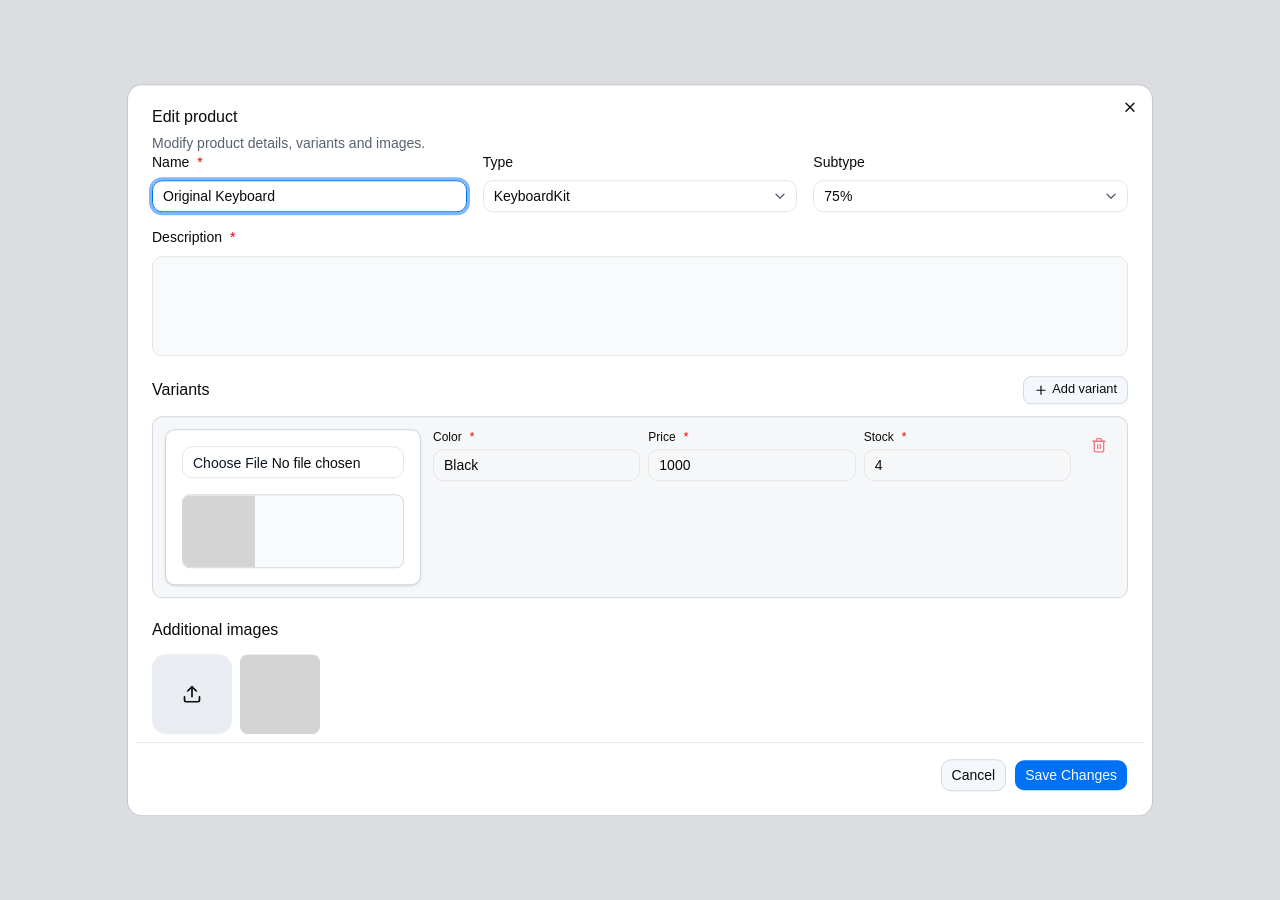
Test case: EditProductFormDialog › adds a variant, permits removing it, and keeps one variant
Check: the button without text in the row of "Stock" is disabled, box top-left (1083, 429), bottom-right (1115, 461)
Step 1. Click the button "Add variant" → (1076, 390), box top-left (1023, 376), bottom-right (1128, 404)
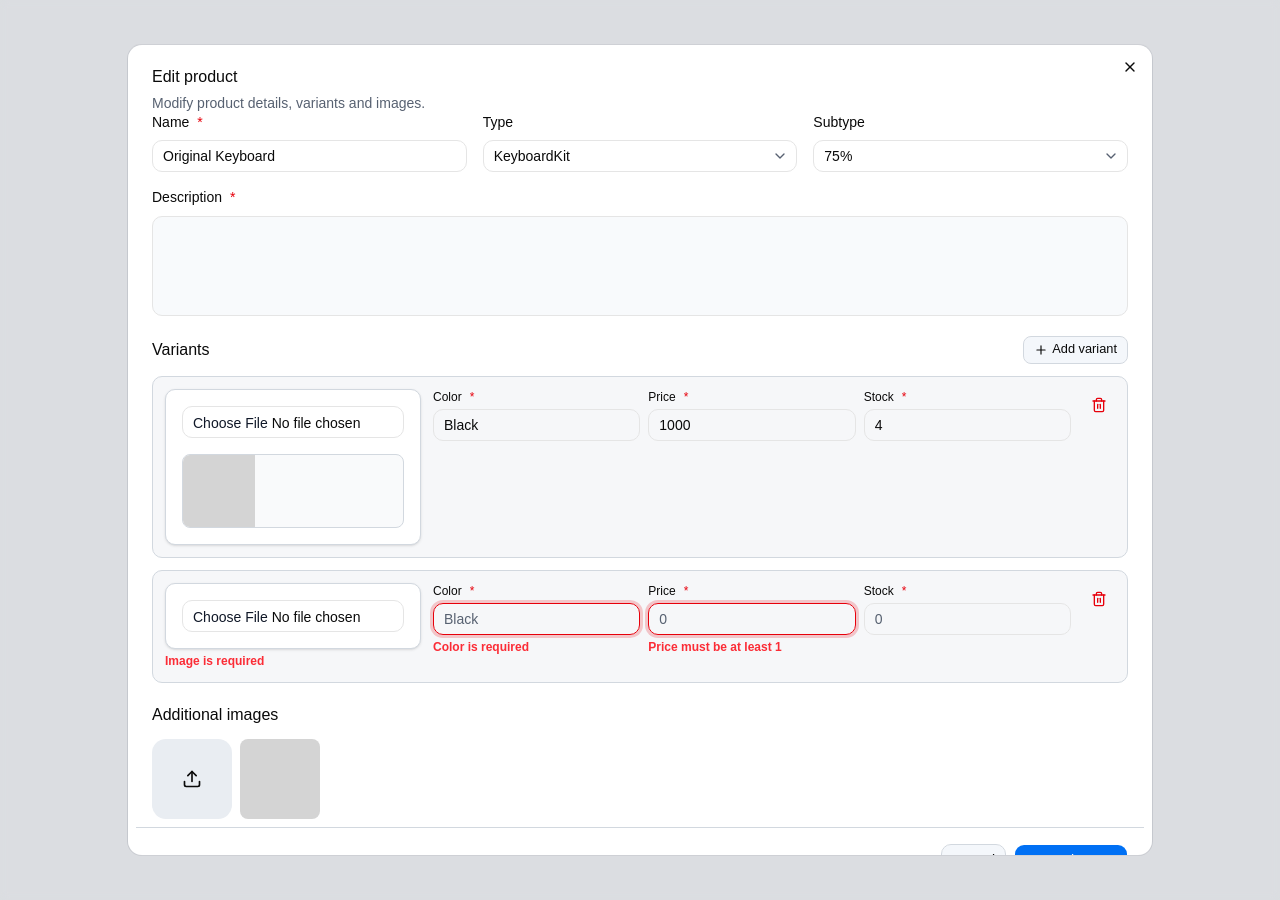
Check: the number of fields with placeholder "Black" is 2, box top-left (433, 408), bottom-right (640, 440); top-left (433, 602), bottom-right (640, 634)
Check: the 4th button is enabled
Step 2. Click the 4th button → (1099, 598), box top-left (1083, 582), bottom-right (1115, 614)
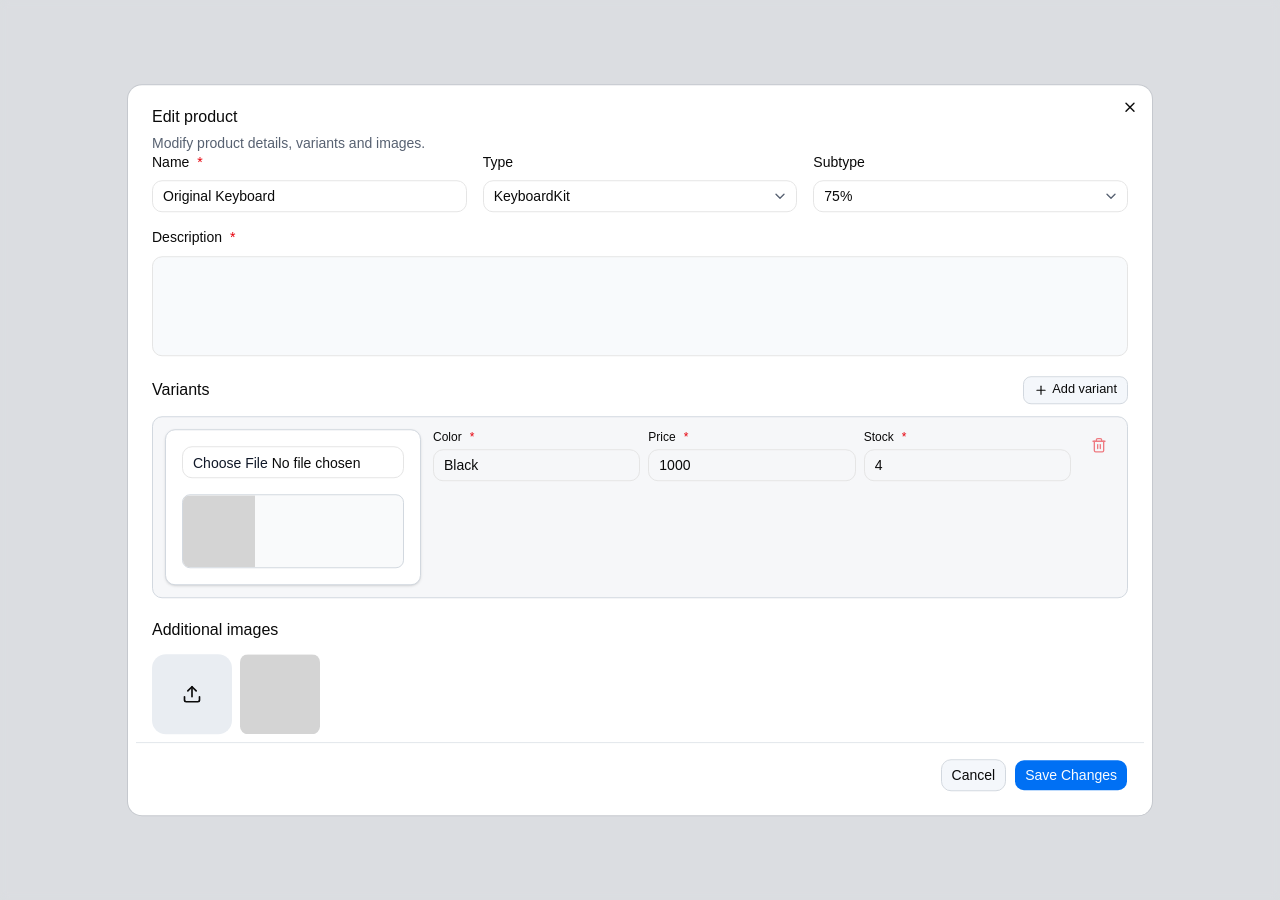
Check: the number of fields with placeholder "Black" is 1, box top-left (433, 449), bottom-right (640, 481)
Check: the button without text in the row of "Stock" is disabled, box top-left (1083, 429), bottom-right (1115, 461)
